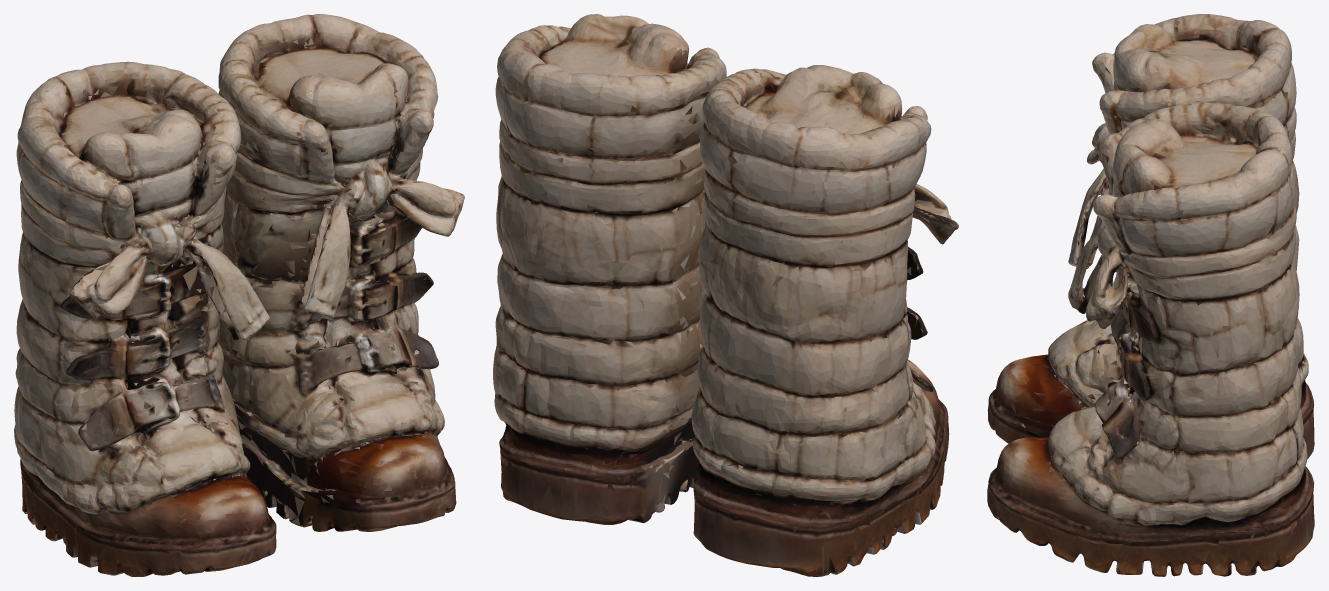
The model's file is quiet-gear-boot-wraps.glb.
The picture shows the model from 3 angles, left to right: view 1: azimuth 30°, elevation 25°; view 2: azimuth 150°, elevation 25°; view 3: azimuth 270°, elevation 25°; orthographic projection. The views are drawn at different scales.
Visible parts, largest first — view 1: geometry_0; view 2: geometry_0; view 3: geometry_0.
Boxes of the visible parts, <box> form: geometry_0: <box>14,14,464,576</box>; geometry_0: <box>493,14,958,576</box>; geometry_0: <box>987,14,1314,576</box>.
Bounding box in the file's own units: 1.94 × 2 × 1.45.
Materials: 1 (1 with a texture image).
